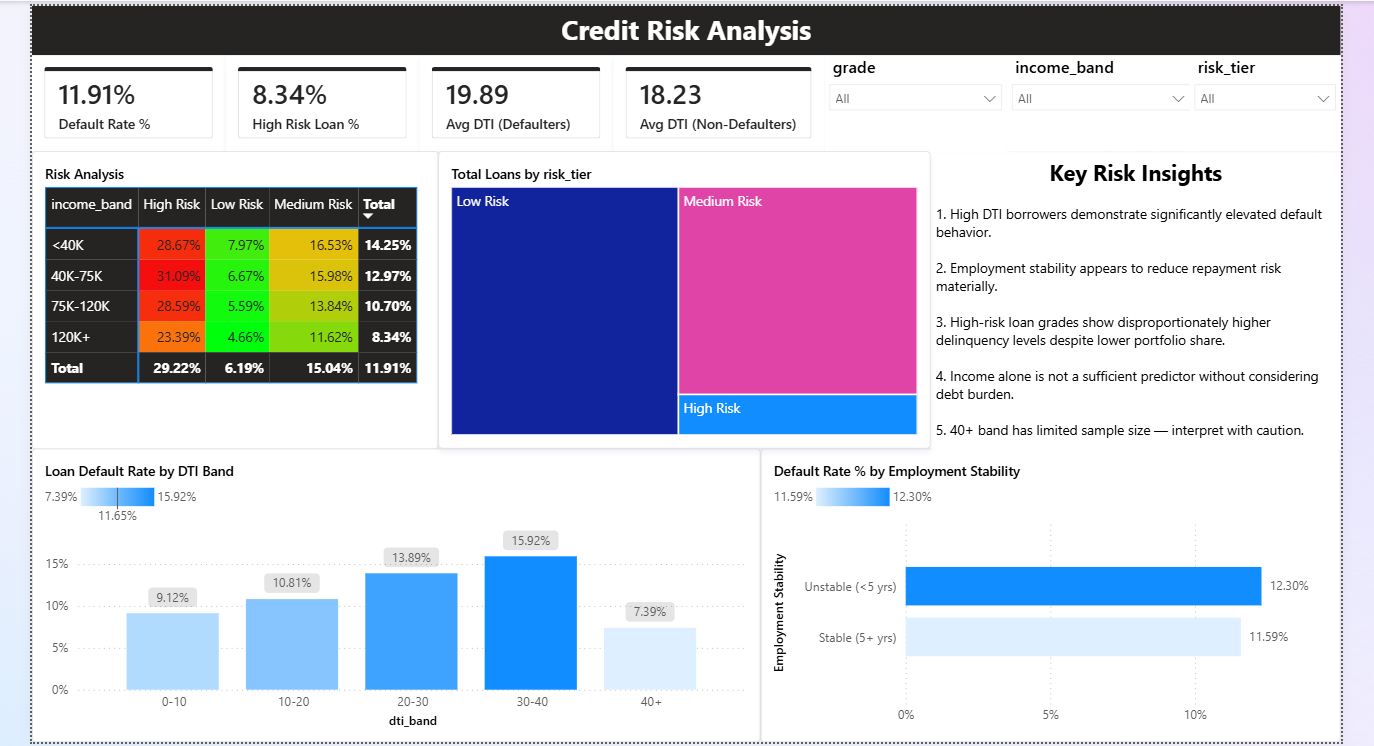

The dashboard page shown, as its layout file describes it:
{"tool":"powerbi","page":{"name":"Risk Analysis","canvas":[1280,720],"ordinal":1},"visuals":[{"type":"cardVisual","fields":{"Data":["loan_data.Default Rate %"]},"box":[0,47.7,189.5,94.2],"z":0},{"type":"cardVisual","fields":{"Data":["loan_data.High Risk Loan %"]},"box":[189.5,47.7,189.5,94.2],"z":1000},{"type":"cardVisual","fields":{"Data":["loan_data.Avg DTI (Defaulters)"]},"box":[379.1,47.7,189.5,94.2],"z":2000},{"type":"cardVisual","fields":{"Data":["loan_data.Avg DTI (Non-Defaulters)"]},"box":[568.6,47.7,206.7,94.2],"z":3000},{"type":"pivotTable","title":"Risk Analysis","fields":{"Columns":["loan_data.risk_tier"],"Rows":["loan_data.income_band"],"Values":["loan_data.Default Rate %"]},"box":[0,141.8,397.4,292.3],"z":4000},{"type":"clusteredColumnChart","title":"Loan Default Rate by DTI Band","fields":{"Category":["loan_data.dti_band"],"Y":["loan_data.Default Rate %"]},"box":[0,432.9,712.9,287.4],"z":5000},{"type":"clusteredBarChart","fields":{"Y":["loan_data.Default Rate %"],"Category":["loan_data.Employment Stability"]},"box":[712.9,432.9,567.4,287.4],"z":6000},{"type":"textbox","box":[879.2,143.1,401.1,291],"z":7000},{"type":"slicer","fields":{"Values":["loan_data.grade"]},"box":[775.3,47.7,178.5,95.4],"z":8000},{"type":"slicer","fields":{"Values":["loan_data.income_band"]},"box":[953.8,47.7,184.6,94.2],"z":9000},{"type":"slicer","fields":{"Values":["loan_data.risk_tier"]},"box":[1132.3,47.7,148,94.2],"z":10000},{"type":"treemap","fields":{"Group":["loan_data.risk_tier"],"Values":["loan_data.Total Loans"]},"box":[397.4,141.8,481.8,291],"z":11000},{"type":"textbox","box":[0,0,1280.3,47.7],"z":12000}]}

Visuals, with their boxes on the page's 1280x720 design canvas (x1, y1, x2, y2). These are canvas units, not pixel positions in the 1374x746 screenshot, which may show the page scaled, cropped or inside an application window:
cardVisual - loan_data.Default Rate %: (left=0, top=48, right=190, bottom=142)
cardVisual - loan_data.High Risk Loan %: (left=190, top=48, right=379, bottom=142)
cardVisual - loan_data.Avg DTI (Defaulters): (left=379, top=48, right=569, bottom=142)
cardVisual - loan_data.Avg DTI (Non-Defaulters): (left=569, top=48, right=775, bottom=142)
"Risk Analysis" pivotTable: (left=0, top=142, right=397, bottom=434)
"Loan Default Rate by DTI Band" clusteredColumnChart: (left=0, top=433, right=713, bottom=720)
clusteredBarChart - loan_data.Default Rate % x loan_data.Employment Stability: (left=713, top=433, right=1280, bottom=720)
textbox: (left=879, top=143, right=1280, bottom=434)
slicer - loan_data.grade: (left=775, top=48, right=954, bottom=143)
slicer - loan_data.income_band: (left=954, top=48, right=1138, bottom=142)
slicer - loan_data.risk_tier: (left=1132, top=48, right=1280, bottom=142)
treemap - loan_data.risk_tier x loan_data.Total Loans: (left=397, top=142, right=879, bottom=433)
textbox: (left=0, top=0, right=1280, bottom=48)
